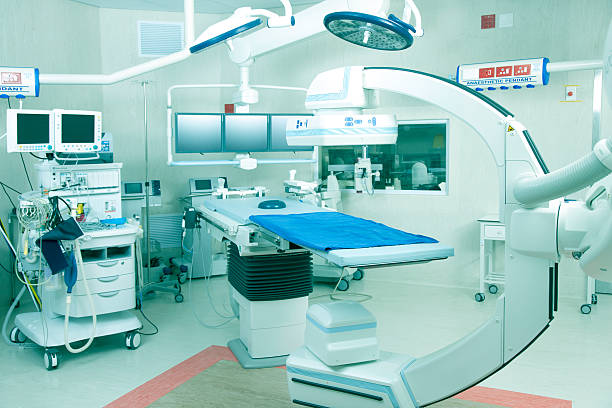bedside_monitor: (221, 115, 273, 155), (173, 115, 225, 155), (271, 116, 322, 156), (54, 112, 103, 153), (8, 112, 52, 152)
iv_pole: (135, 74, 151, 319)
medical_drawer: (51, 255, 144, 312)
operating_bed: (199, 195, 456, 370)
surgical_light: (323, 1, 427, 54), (189, 17, 268, 58)
utility_cart: (472, 214, 601, 310)
ventilator: (14, 156, 144, 325)
